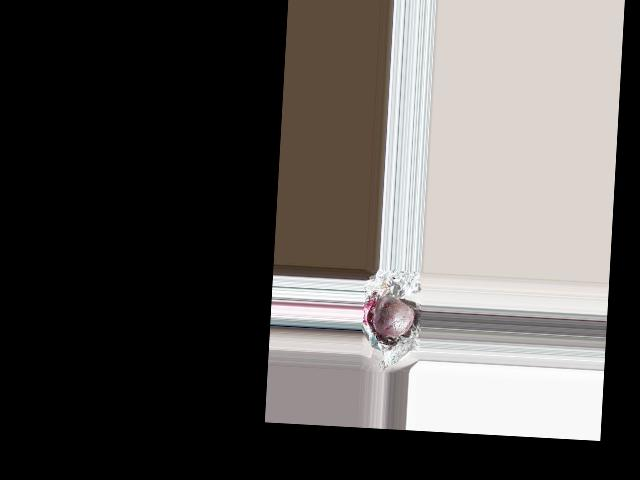beet: (373, 294, 415, 338)
